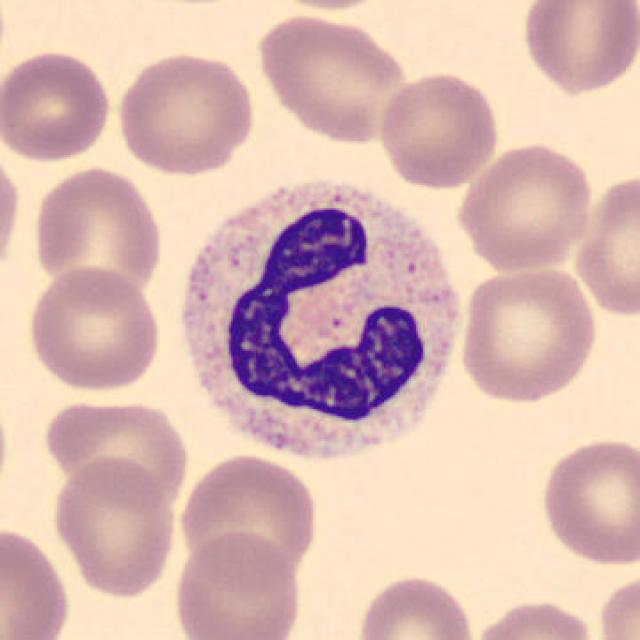Neutrophil: (166, 166, 470, 481)
RBC: (252, 10, 412, 144), (455, 262, 601, 406), (174, 449, 322, 584), (452, 138, 598, 274), (29, 162, 167, 302), (48, 455, 180, 599), (23, 263, 165, 395), (112, 48, 258, 176), (39, 393, 194, 511), (373, 69, 503, 192), (170, 527, 306, 640), (535, 432, 638, 569), (0, 46, 116, 164), (517, 0, 640, 99), (569, 168, 640, 319), (0, 520, 75, 640), (352, 571, 480, 640), (469, 596, 599, 640), (0, 141, 25, 287), (594, 569, 640, 640), (256, 0, 398, 14), (0, 384, 12, 518)
